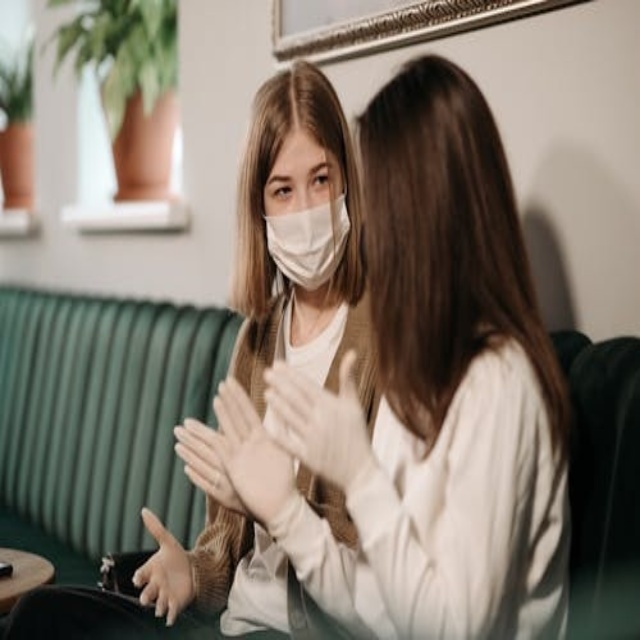Guantes: (260, 342, 377, 498), (207, 364, 298, 508), (134, 500, 192, 627), (165, 414, 234, 512)
Mascara: (262, 186, 352, 289)
Sin_gafas: (265, 155, 338, 199)
